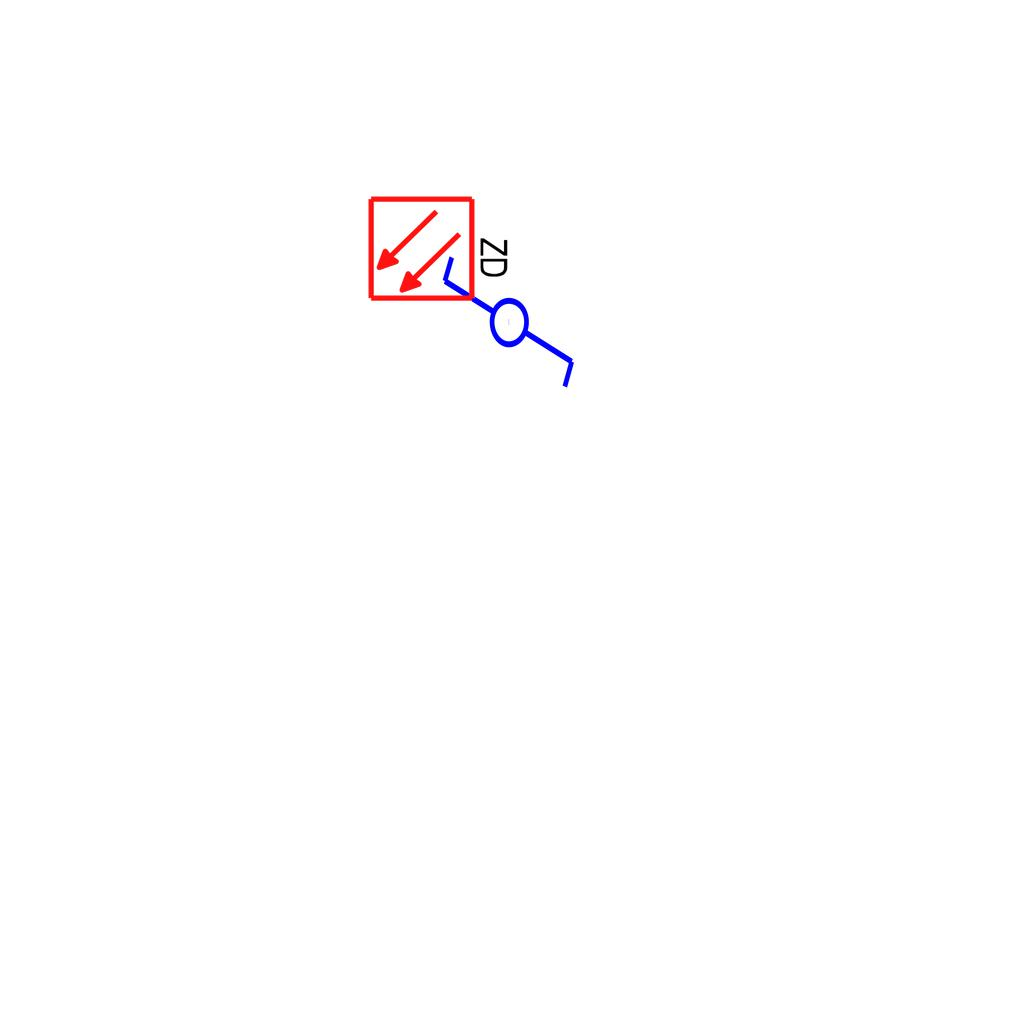Wechselschalter: (435, 252, 579, 409)
ZD_Melder_in_Zwischendecke_mit_Revisionsoeffnung_mind_40_x_40_cm: (366, 190, 515, 304)
